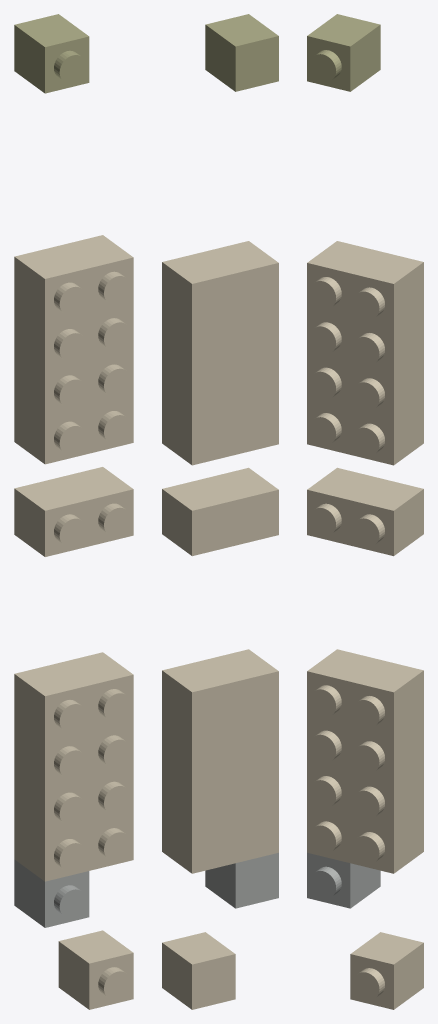
File: current.glb
The picture shows the model from 3 angles, left to right: view 1: azimuth 30°, elevation 25°; view 2: azimuth 210°, elevation 25°; view 3: azimuth 330°, elevation 25°; orthographic projection. The views are drawn at different scales.
Visible parts, largest first — view 1: world; view 2: world; view 3: world.
Part boxes in pixels (x1=…): world: x1=14, y1=14, x2=133, y2=1009; world: x1=162, y1=14, x2=278, y2=1009; world: x1=307, y1=14, x2=423, y2=1009.
Size of the model in its own units: 16 by 168 by 11.4.
